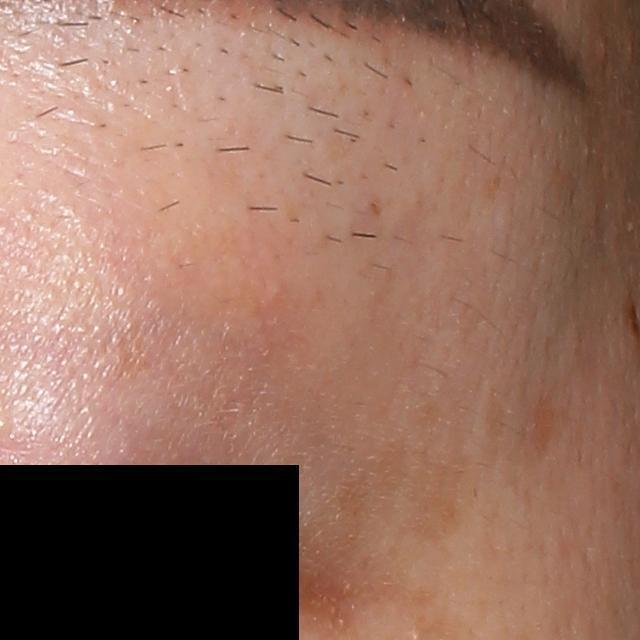melasma: (337, 394, 470, 547)
